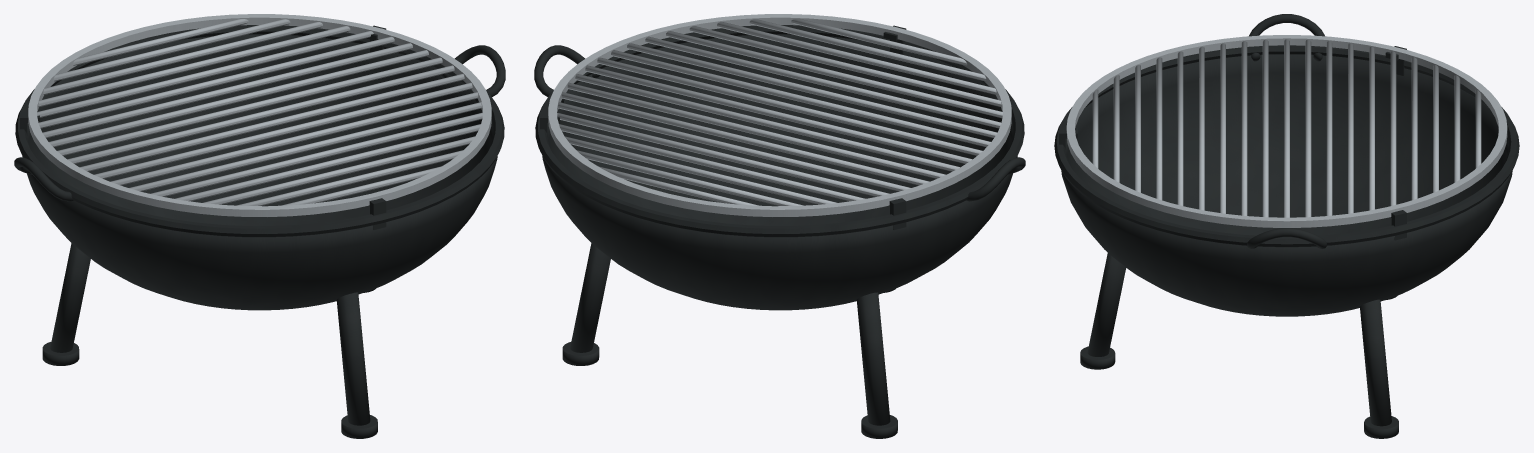
Rendered from camp_fire_grill.glb.
3 renders of one model, left to right at view 1: azimuth 30°, elevation 25°; view 2: azimuth 150°, elevation 25°; view 3: azimuth 270°, elevation 25°, orthographic. The views are drawn at different scales.
Visible parts, largest first — view 1: Finite six millimetre fire bowl, Closed grate perimeter, Rolled bowl rim, Splayed supporting leg 2, Real parallel grate bar 09, Real parallel grate bar 10, Real parallel grate bar 08, Real parallel grate bar 11, Real parallel grate bar 07, Real parallel grate bar 12, Real parallel grate bar 06, Real parallel grate bar 13 (+16 smaller); view 2: Finite six millimetre fire bowl, Closed grate perimeter, Rolled bowl rim, Splayed supporting leg 1, Real parallel grate bar 09, Real parallel grate bar 08, Real parallel grate bar 10, Real parallel grate bar 07, Real parallel grate bar 11, Real parallel grate bar 06, Real parallel grate bar 12, Real parallel grate bar 05 (+16 smaller); view 3: Finite six millimetre fire bowl, Closed grate perimeter, Rolled bowl rim, Splayed supporting leg 0, Splayed supporting leg 2, Real parallel grate bar 08, Real parallel grate bar 10, Real parallel grate bar 07, Real parallel grate bar 11, Real parallel grate bar 04, Real parallel grate bar 14, Real parallel grate bar 09 (+16 smaller).
Boxes of the visible parts, x1,y1,x2,y2 form: Finite six millimetre fire bowl: (22,34,497,310); Closed grate perimeter: (28,14,491,216); Rolled bowl rim: (15,25,504,237); Splayed supporting leg 2: (336,292,370,425); Real parallel grate bar 09: (67,65,454,163); Real parallel grate bar 10: (57,57,442,155); Real parallel grate bar 08: (80,74,464,171); Real parallel grate bar 11: (49,50,428,147); Real parallel grate bar 07: (94,82,472,178); Real parallel grate bar 12: (42,43,412,137); Real parallel grate bar 06: (110,92,478,185); Real parallel grate bar 13: (38,36,394,128); Finite six millimetre fire bowl: (542,34,1017,310); Closed grate perimeter: (548,14,1011,216); Rolled bowl rim: (535,25,1024,237); Splayed supporting leg 1: (856,292,890,425); Real parallel grate bar 09: (585,65,972,163); Real parallel grate bar 08: (597,57,982,155); Real parallel grate bar 10: (575,74,959,171); Real parallel grate bar 07: (611,50,990,147); Real parallel grate bar 11: (567,82,945,178); Real parallel grate bar 06: (627,43,997,137); Real parallel grate bar 12: (561,92,929,185); Real parallel grate bar 05: (645,36,1001,128); Finite six millimetre fire bowl: (1061,54,1512,316); Closed grate perimeter: (1066,35,1507,227); Rolled bowl rim: (1054,45,1519,247); Splayed supporting leg 0: (1360,299,1391,426); Splayed supporting leg 2: (1087,253,1125,356); Real parallel grate bar 08: (1262,39,1268,217); Real parallel grate bar 10: (1305,39,1311,217); Real parallel grate bar 07: (1241,41,1247,215); Real parallel grate bar 11: (1326,41,1332,215); Real parallel grate bar 04: (1177,51,1183,205); Real parallel grate bar 14: (1390,51,1396,205); Real parallel grate bar 09: (1284,39,1289,217).
Bounding box in the file's own units: 0.6779 × 0.3495 × 0.612.
Materials: 2 (2 with a texture image).
